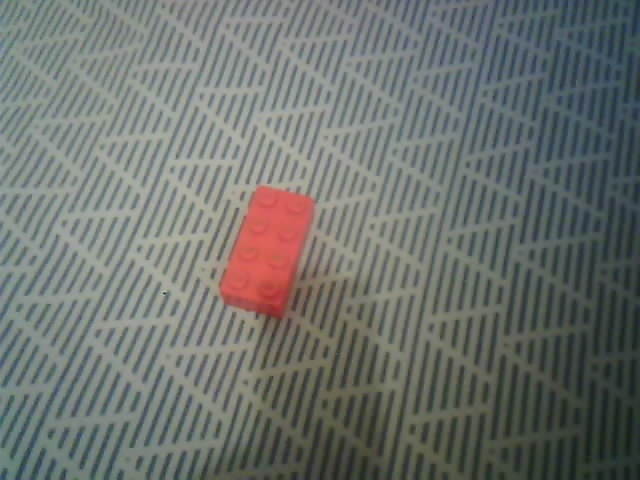lego: (219, 185, 317, 318)
